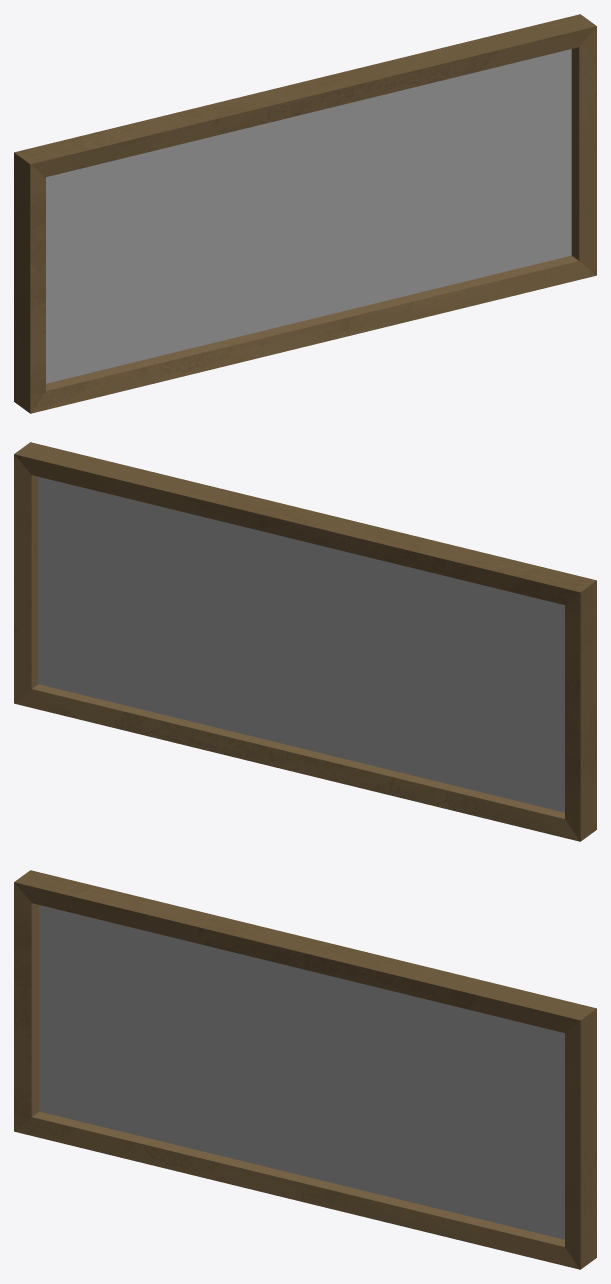
The model's file is SM_museumFrame2.fbx.
The picture shows the model from 3 angles, top to bottom: view 1: azimuth 30°, elevation 25°; view 2: azimuth 150°, elevation 25°; view 3: azimuth 330°, elevation 25°; orthographic projection.
Visible parts, largest first — view 1: pPlane64, picFrame2; view 2: pPlane64, picFrame2; view 3: pPlane64, picFrame2.
Boxes of the visible parts, box(x1,y1,x2,y2) form: pPlane64: box(46, 49, 571, 383); picFrame2: box(14, 14, 596, 413); pPlane64: box(38, 477, 564, 812); picFrame2: box(14, 442, 596, 841); pPlane64: box(39, 905, 564, 1239); picFrame2: box(14, 870, 596, 1269).
Bounding box in the file's own units: 22.18 × 9.33 × 1.12.
Materials: 2 (1 with a texture image).
